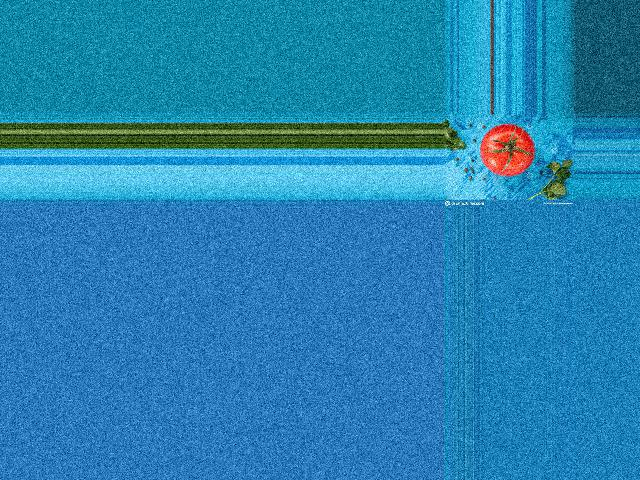tomato: (480, 124, 535, 176)
